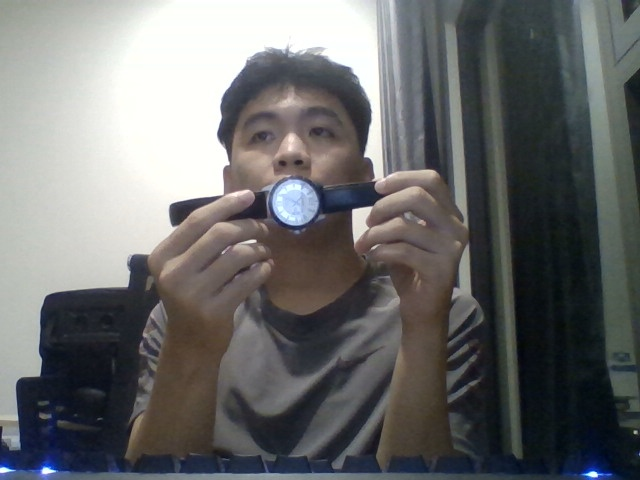watch: (166, 173, 378, 236)
